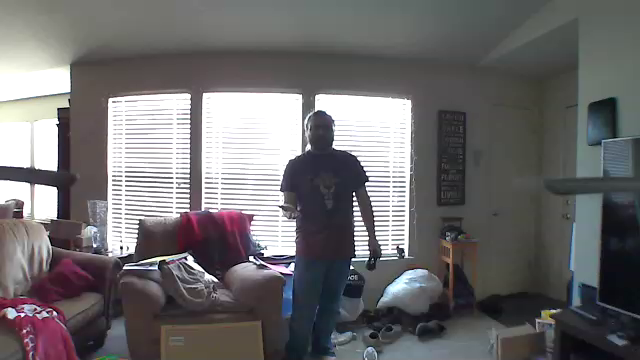land: (274, 201, 303, 224)
